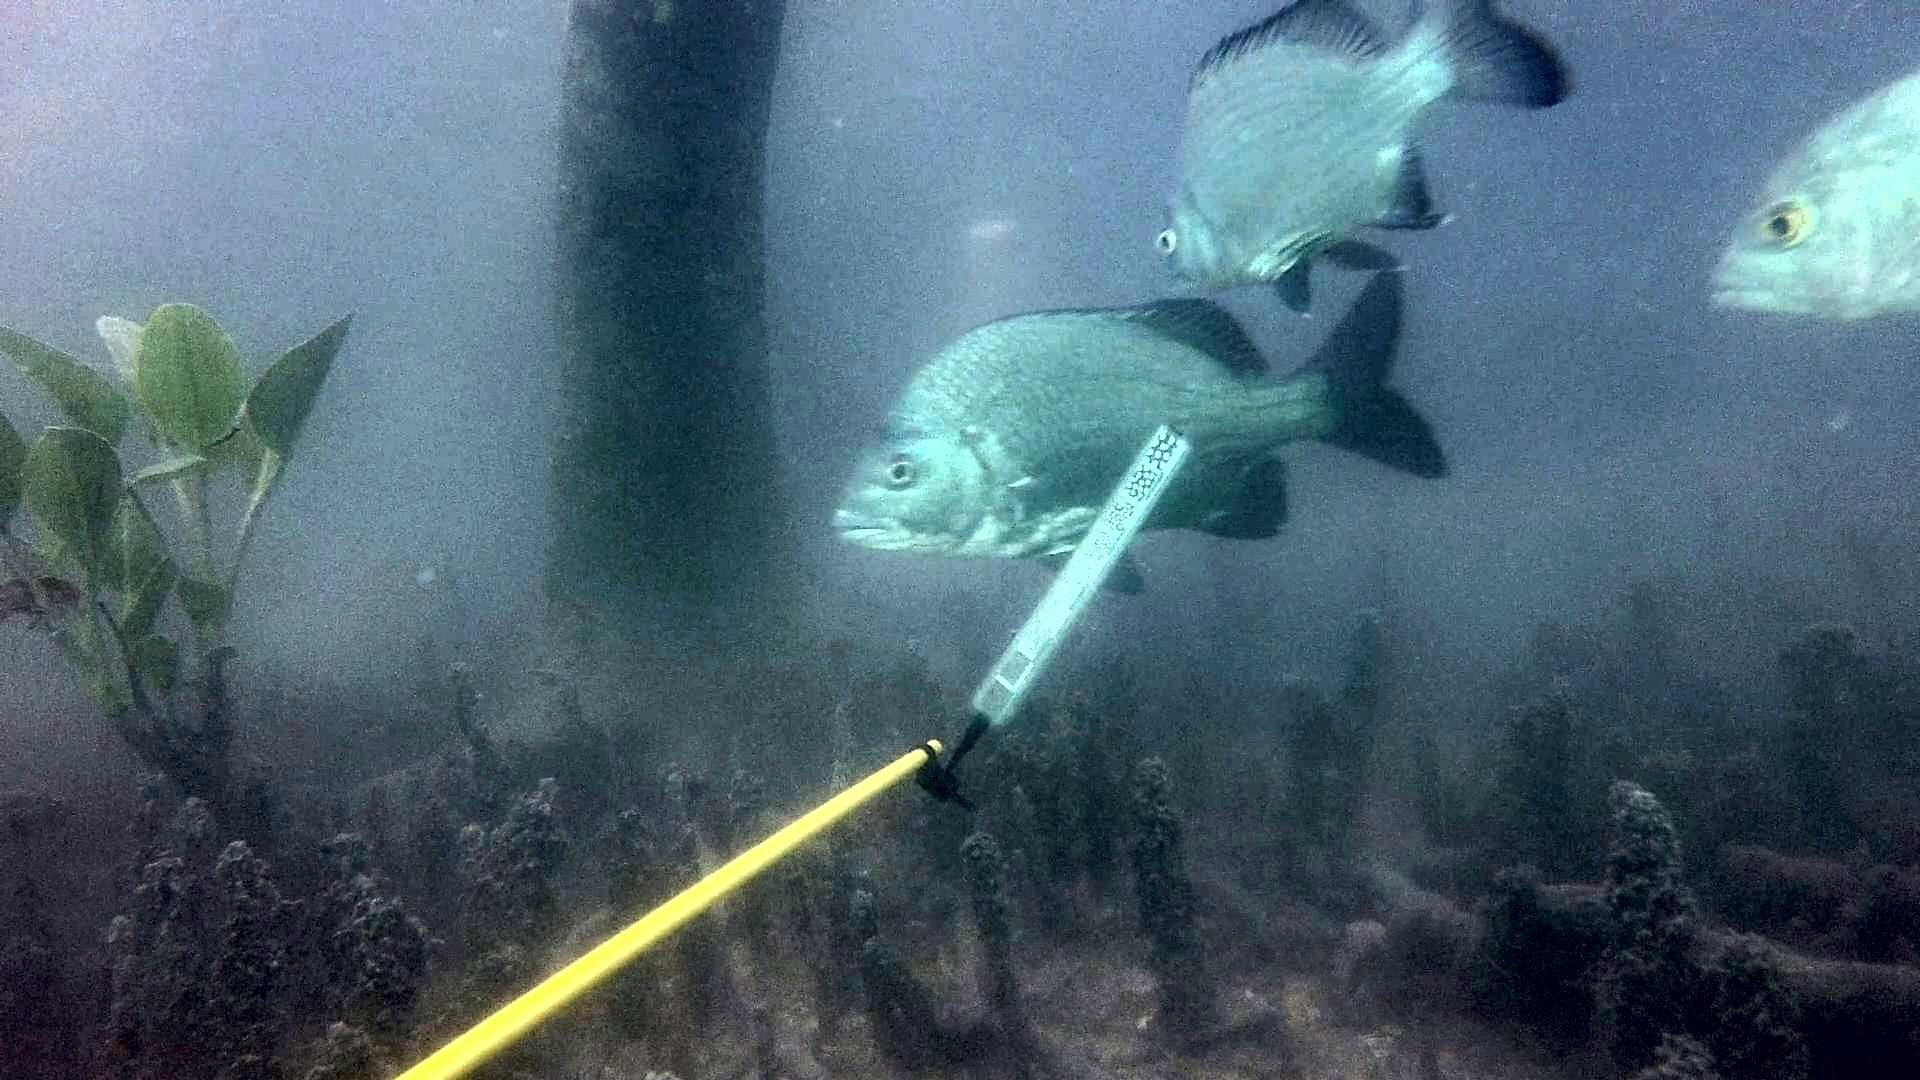acanthopagrus palmaris: (823, 251, 1461, 607), (1135, 0, 1586, 331)
caranx: (1693, 58, 1920, 344)
